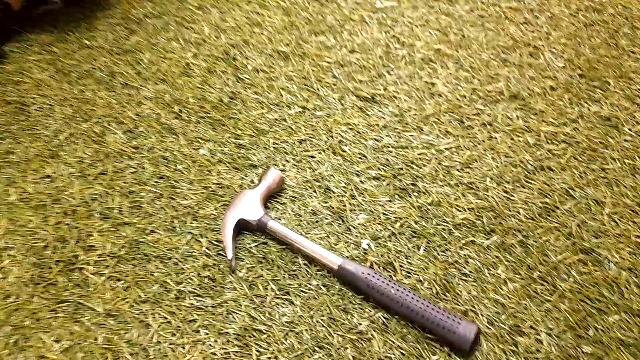hammer: (213, 166, 487, 358)
